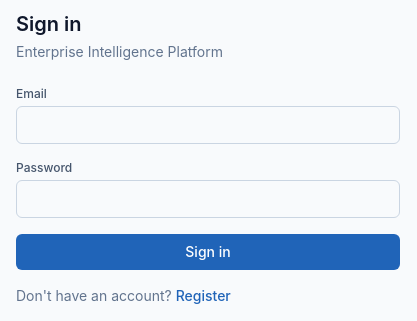
Test case: LoginPage › disables the submit button while the request is in flight
Type "admin@example.com" into the field labelled "Email" at x=208, y=124, box [16,106,400,144]
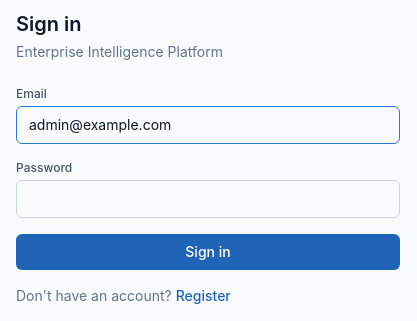
Type "Password123" into the password field labelled "Password" at x=208, y=198, box [16,180,400,218]
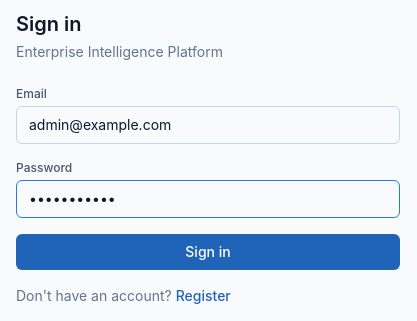
Click the button "Sign in" at x=208, y=252, box [16,234,400,270]
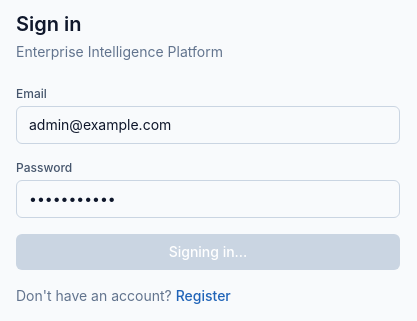
Now the button "Signing in…" is disabled, box [16,234,400,270]
